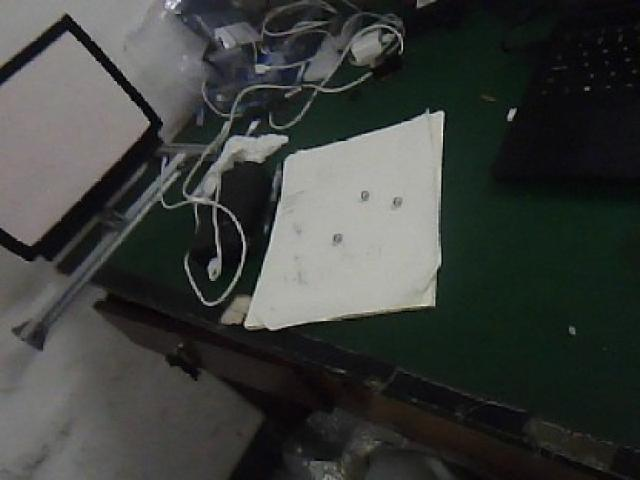steel-ball: (316, 217, 352, 252), (348, 172, 377, 213), (385, 186, 400, 209)
